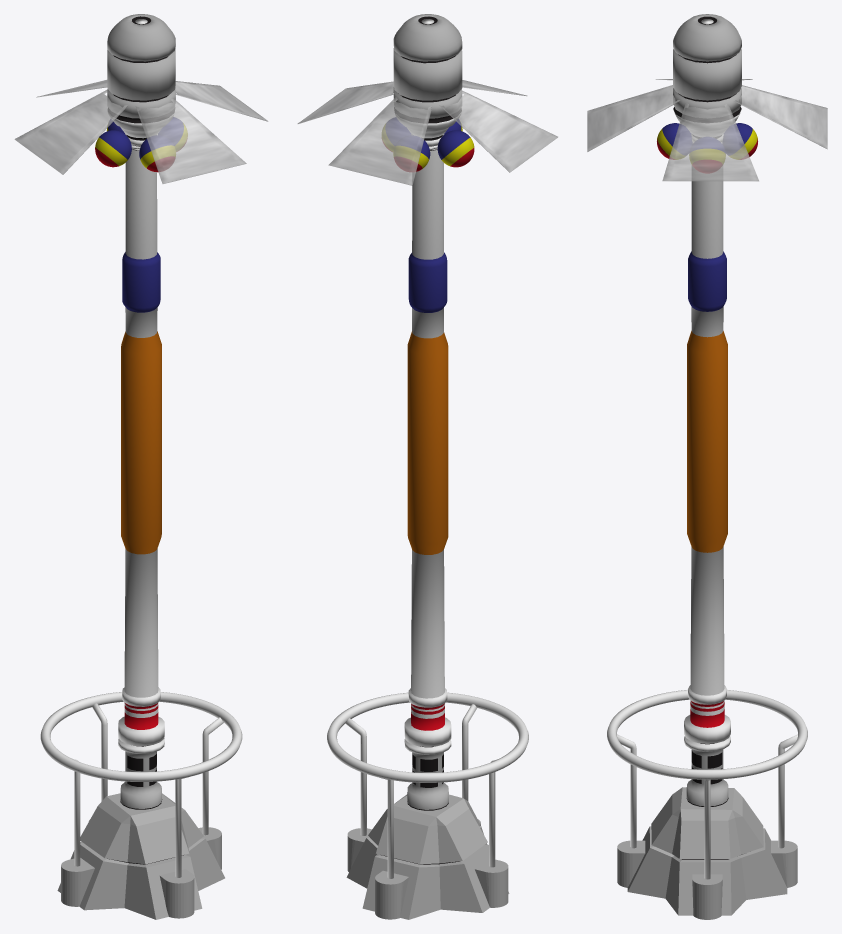
The model's file is Central_Park_Post_WIP.fbx.
The picture shows the model from 3 angles, left to right: view 1: azimuth 30°, elevation 25°; view 2: azimuth 150°, elevation 25°; view 3: azimuth 270°, elevation 25°; orthographic projection.
Parts seen in each view (by area): view 1: Sphere.004, Cylinder.005; view 2: Sphere.004, Cylinder.005; view 3: Sphere.004, Cylinder.005.
Part boxes in pixels (<box>): Sphere.004: <box>40,14,242,919</box>; Cylinder.005: <box>14,80,268,183</box>; Sphere.004: <box>327,14,528,919</box>; Cylinder.005: <box>297,80,557,185</box>; Sphere.004: <box>607,14,807,919</box>; Cylinder.005: <box>587,79,827,181</box>.
Size of the model in its own units: 249 by 983 by 249.
